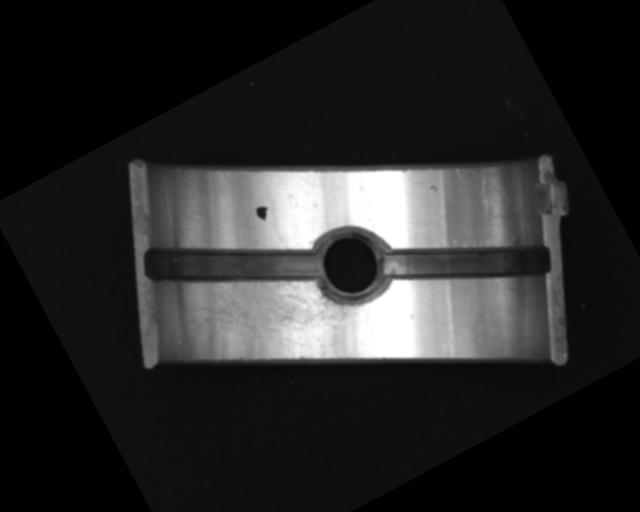blot: (252, 201, 274, 224)
bruise: (426, 182, 440, 196)
gap: (139, 183, 323, 346), (380, 191, 555, 340)
hole: (303, 217, 400, 316)
scratch: (179, 224, 384, 416)
